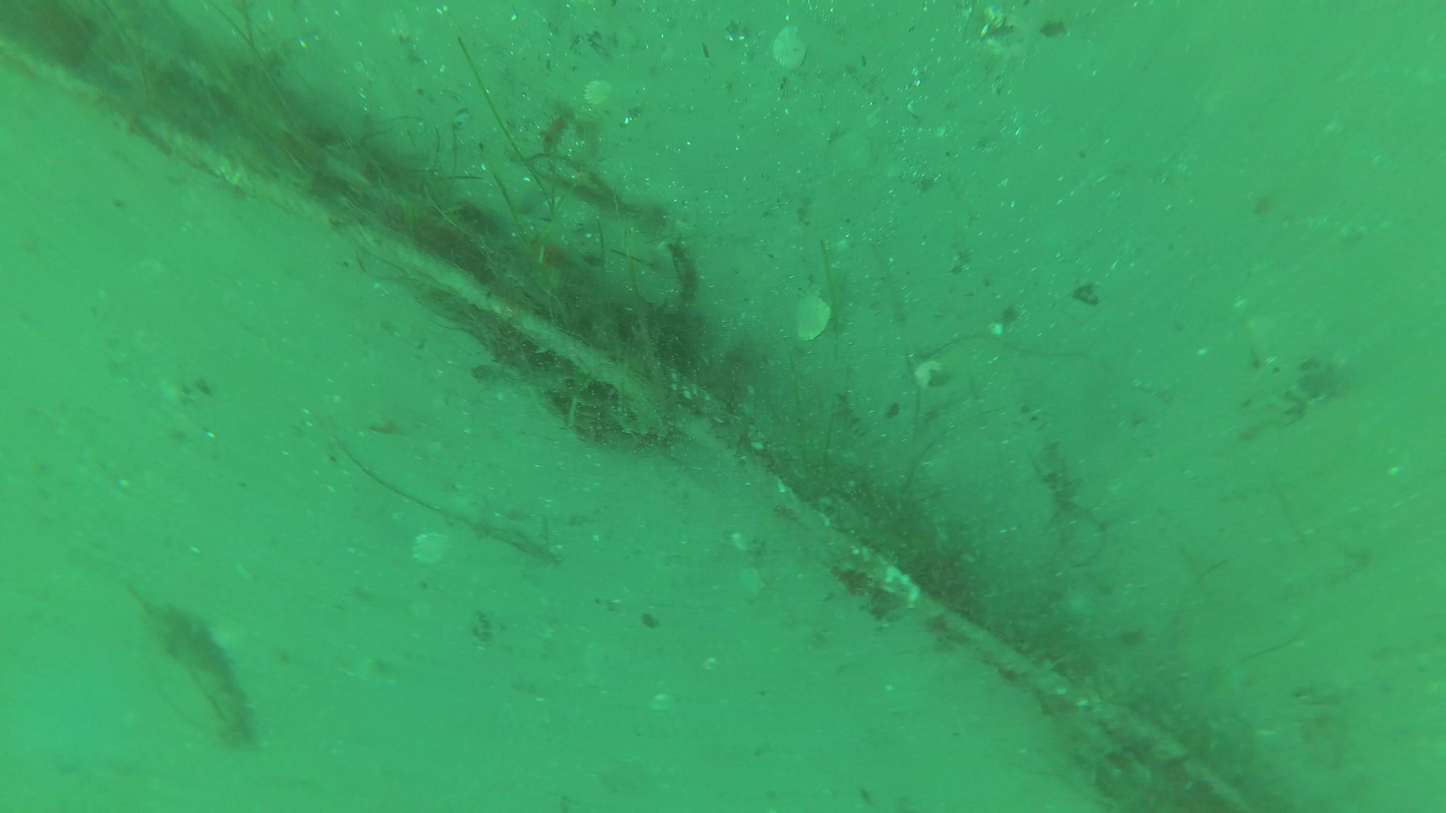scallop: (793, 282, 837, 350), (773, 23, 805, 73), (576, 75, 619, 108)
